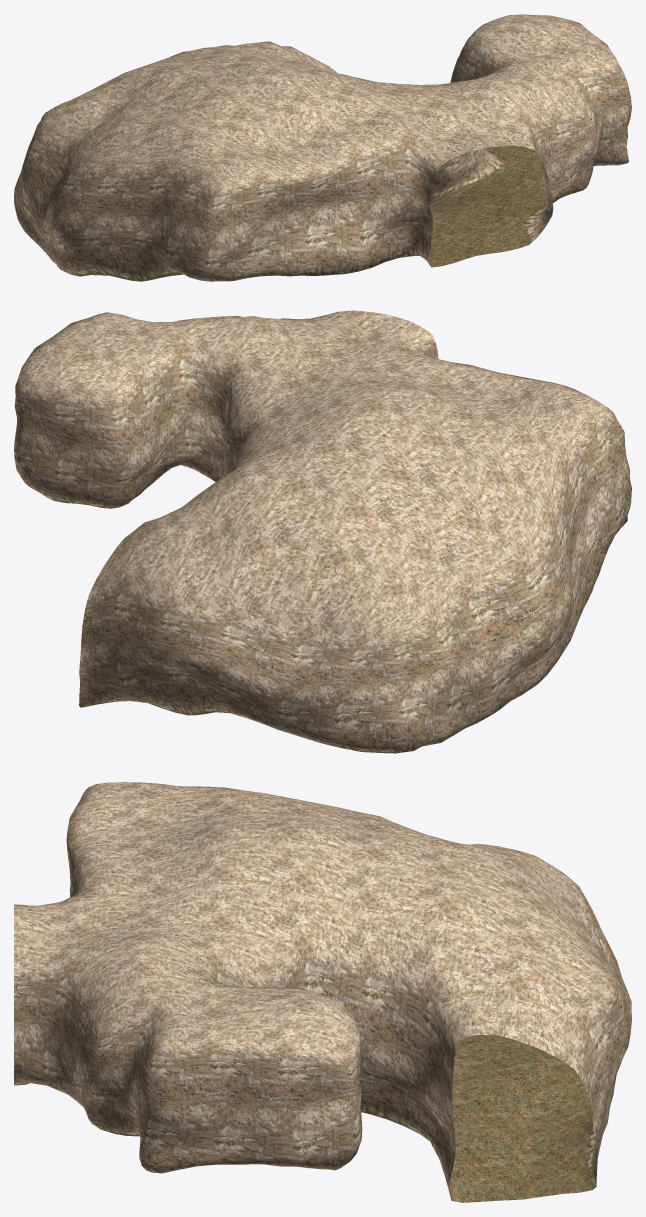
File: thm_all_cave_s01_mirror_r5_mesh_r5.fbx
3 views of the same model, one above another, from view 1: azimuth 30°, elevation 25°; view 2: azimuth 150°, elevation 25°; view 3: azimuth 270°, elevation 25° (orthographic). The views are drawn at different scales.
Visible parts, largest first — view 1: mesh_node; view 2: mesh_node; view 3: mesh_node.
Boxes of the visible parts, bbox=[...] form: mesh_node: bbox=[14, 14, 631, 281]; mesh_node: bbox=[14, 310, 631, 753]; mesh_node: bbox=[14, 782, 631, 1202].
Size of the model in its own units: 98.88 by 42.82 by 84.01.
